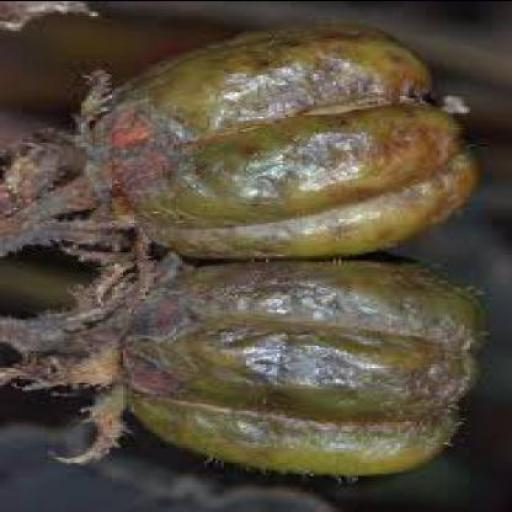biodegradable: (14, 18, 476, 258), (14, 245, 481, 477)
